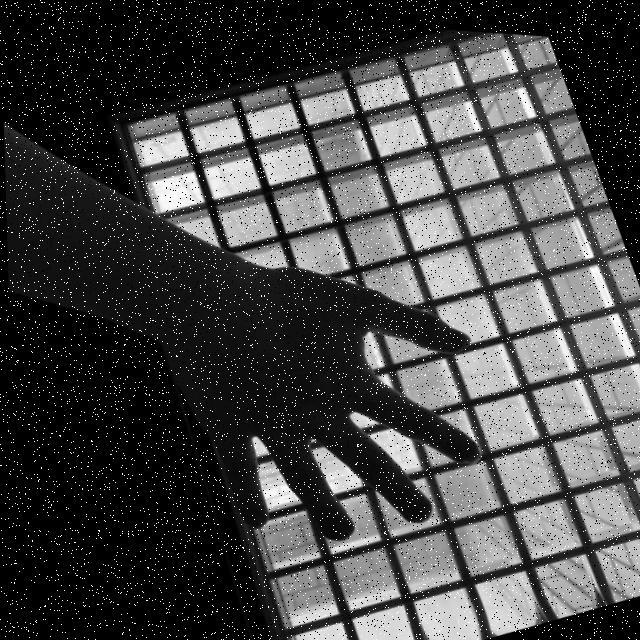no-gloves: (141, 201, 527, 584)
